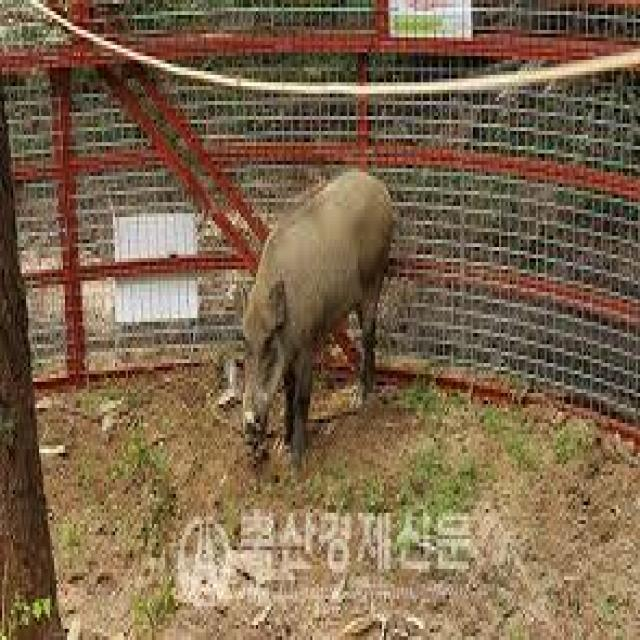boar: (200, 121, 427, 448)
